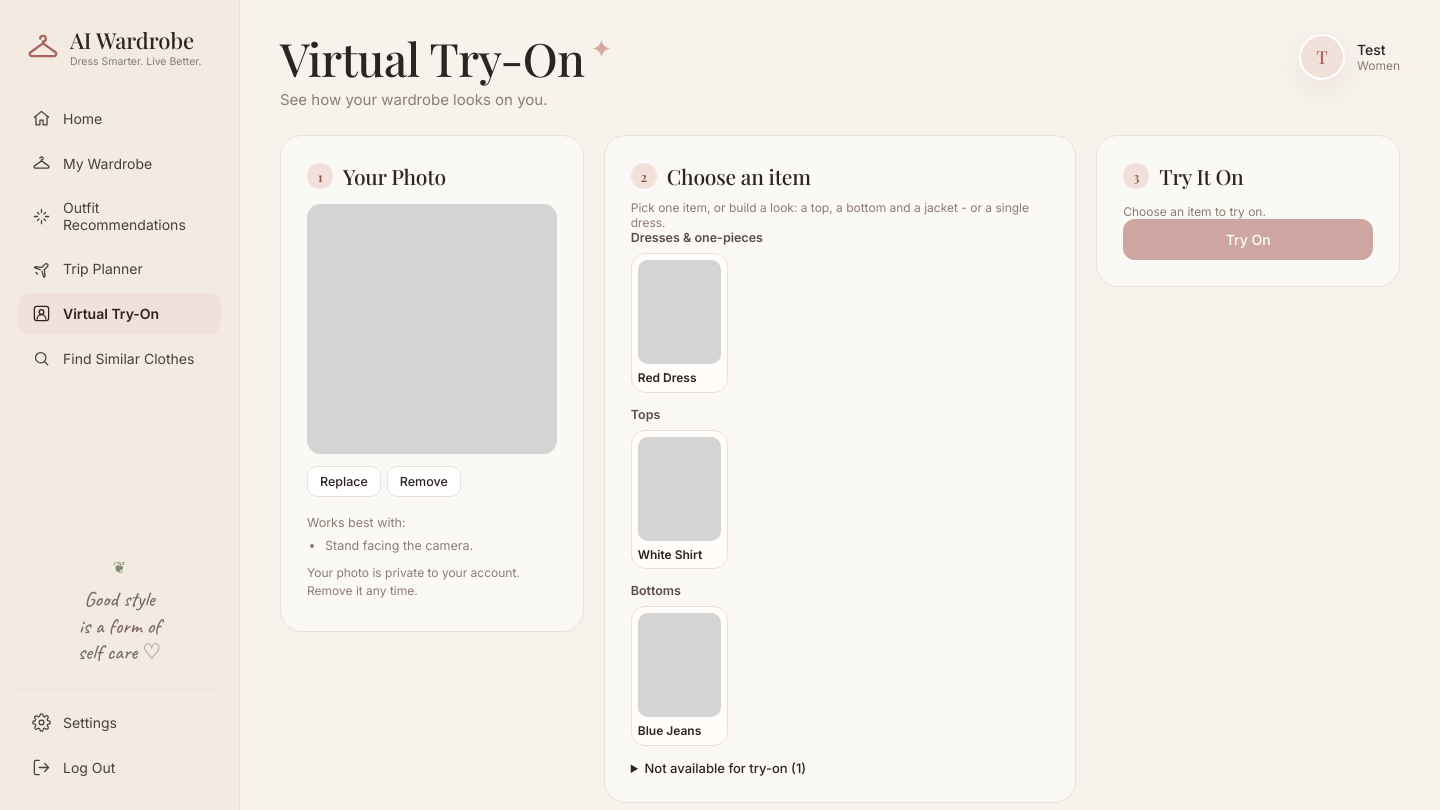
Test: unsupported garment rejected by the server shows its message
Click the button "White Shirt" at point(679, 500), box [631,430,728,569]
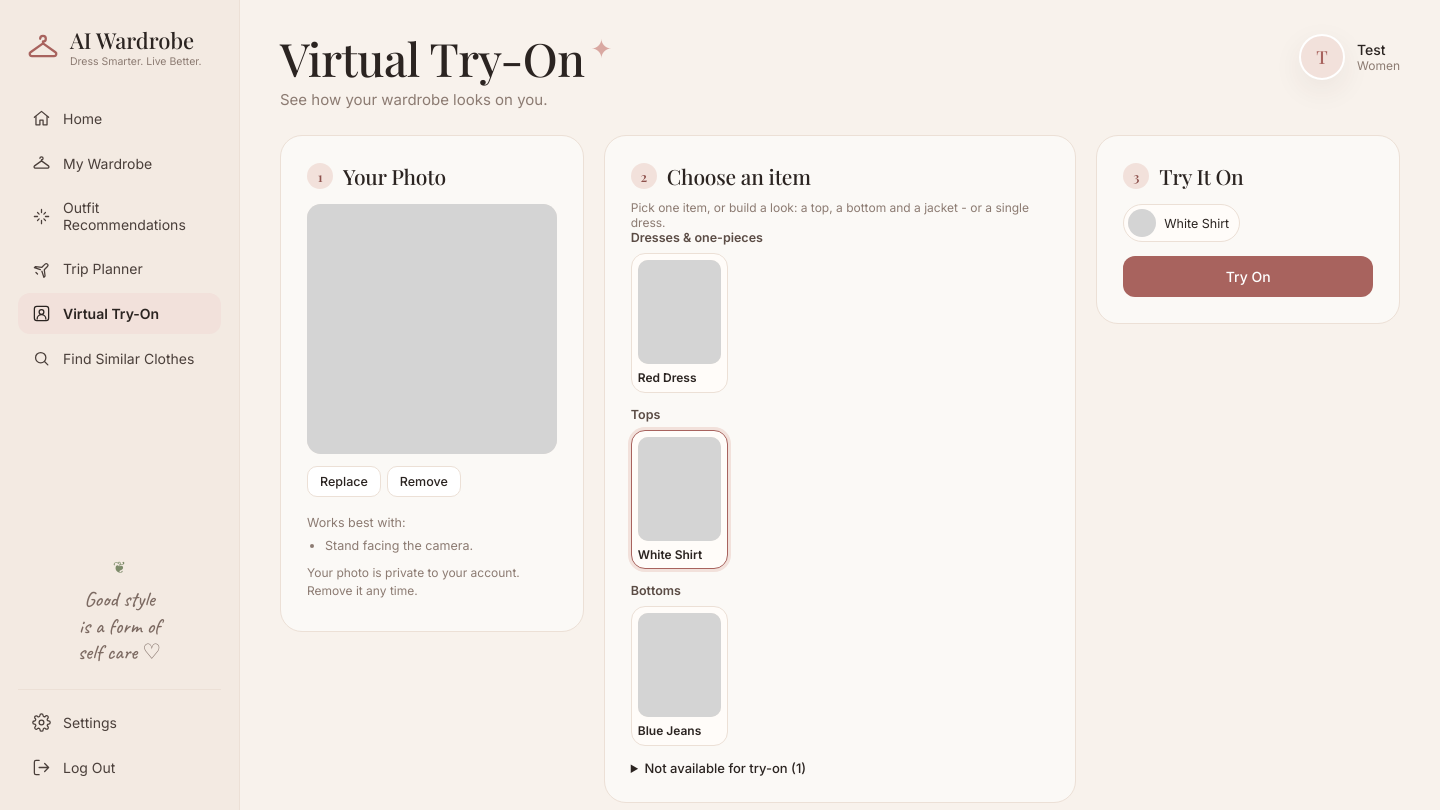
Click the button "Try On" at point(1248, 277), box [1123,256,1373,297]
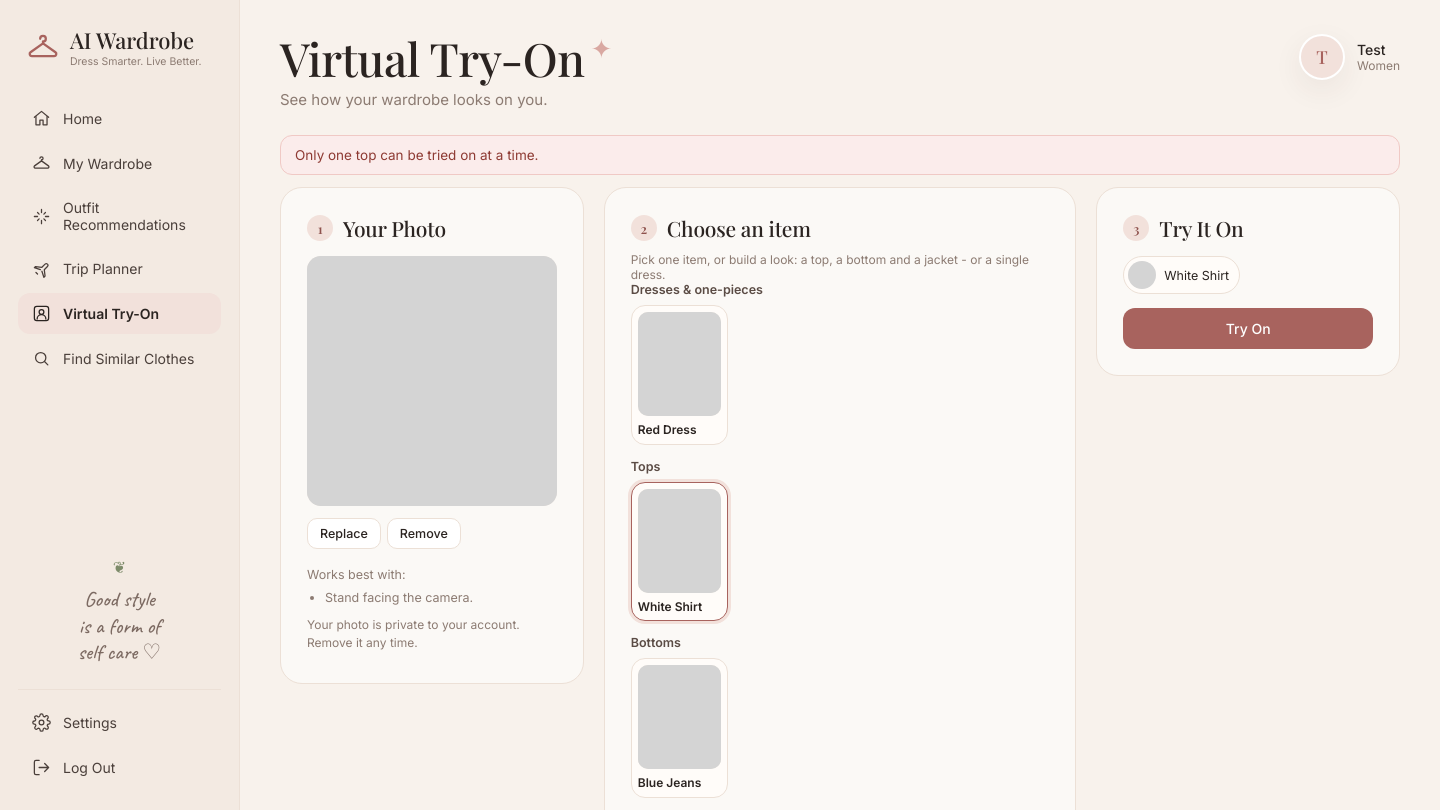
Expected: the message reads "Only one top can be tried on at a time.", [295,147,538,163]
